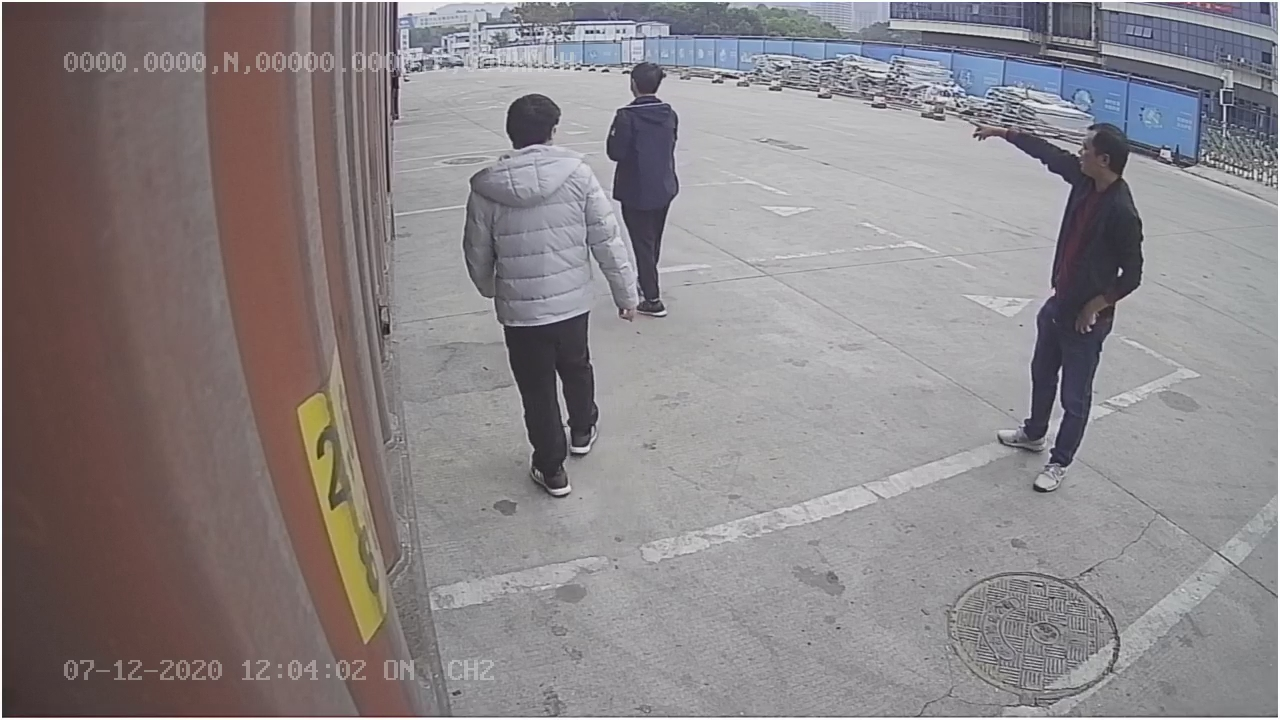person: (965, 104, 1147, 495)
